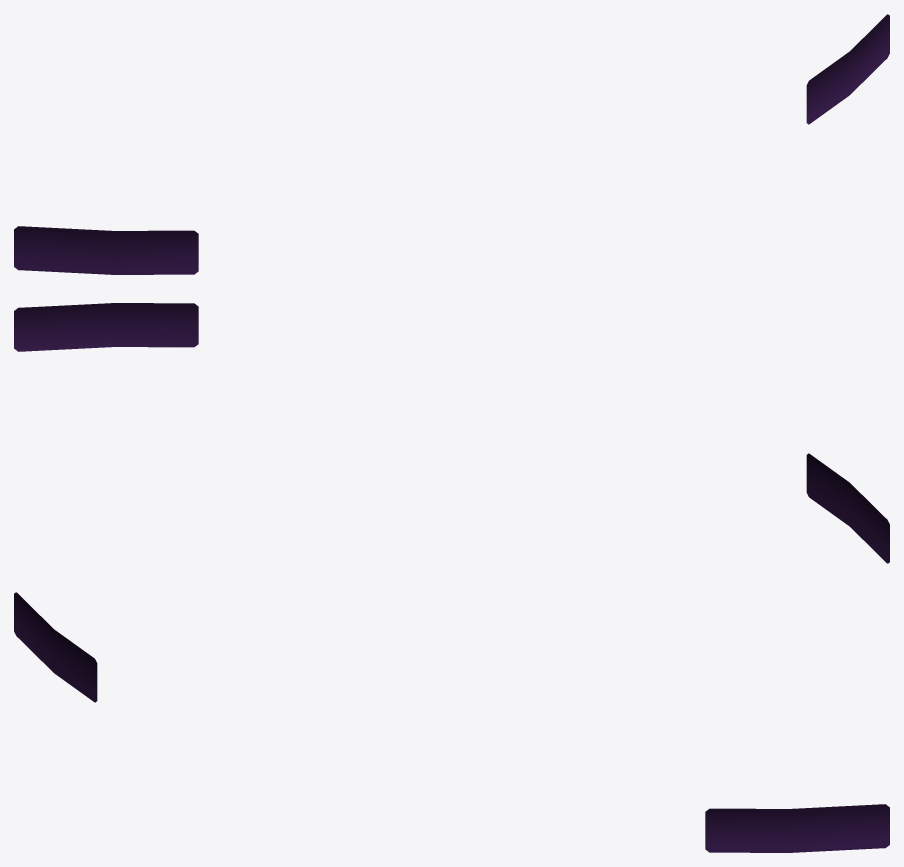
Rendered from Supra_FrontBar_05_Detail.fbx.
3 renders of one model, top to bottom at view 1: azimuth 30°, elevation 25°; view 2: azimuth 150°, elevation 25°; view 3: azimuth 330°, elevation 25°, orthographic.
Visible parts, largest first — view 1: Supra_FrontBar_05_Detail; view 2: Supra_FrontBar_05_Detail; view 3: Supra_FrontBar_05_Detail.
Boxes of the visible parts, x1,y1,x2,y2 form: Supra_FrontBar_05_Detail: (14, 14, 889, 274); Supra_FrontBar_05_Detail: (14, 303, 889, 563); Supra_FrontBar_05_Detail: (14, 592, 889, 852).
Size of the model in its own units: 136 by 6.52 by 13.61.
